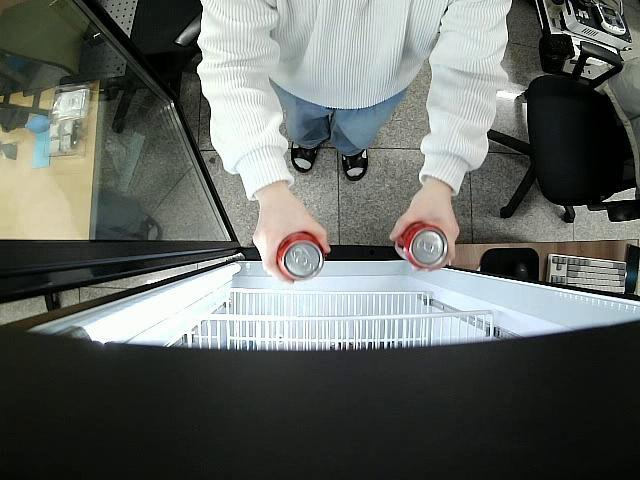11_cocaColaZero: (395, 220, 448, 267), (276, 234, 325, 282)
